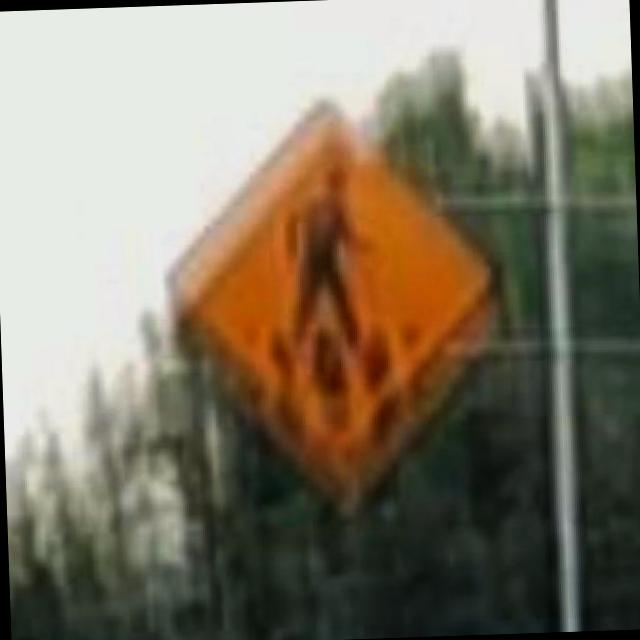Przejscie dla pieszych: (202, 126, 486, 442)
